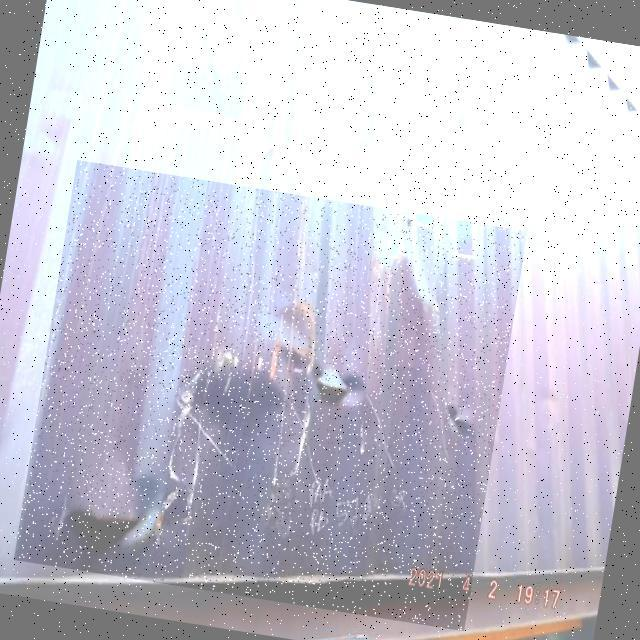Dent: (14, 160, 528, 631)
